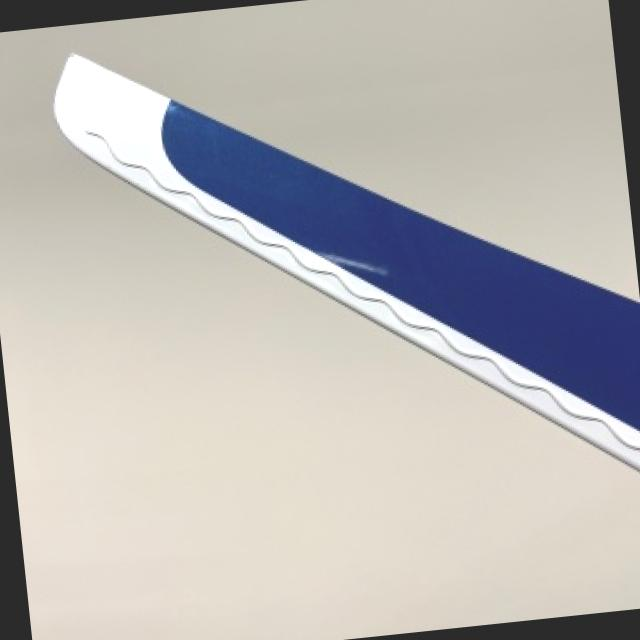healthy: (56, 54, 640, 467)
